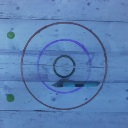Axe Tip: (53, 81, 66, 84)
